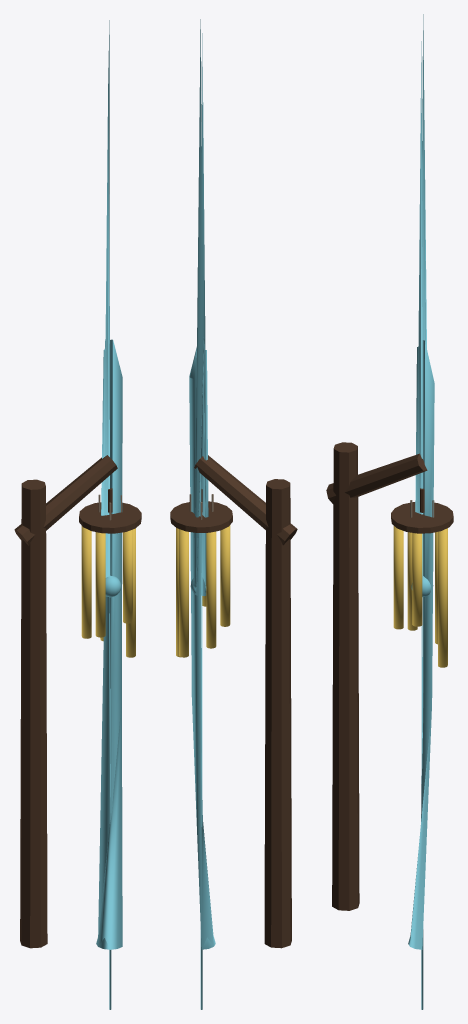
File: greenhouse-wind-chime.glb
3 views of the same model, side by side, from view 1: azimuth 30°, elevation 25°; view 2: azimuth 150°, elevation 25°; view 3: azimuth 330°, elevation 25° (orthographic).
Parts seen in each view (by area): view 1: SupportPost, Clapper, SuspensionDisc, chime_Tube_3, chime_Tube_4, chime_Tube_5, chime_Tube_1; view 2: SupportPost, Clapper, SuspensionDisc, chime_Tube_3, chime_Tube_2, chime_Tube_4, chime_Tube_1; view 3: SupportPost, Clapper, SuspensionDisc, chime_Tube_1, chime_Tube_4, chime_Tube_5, chime_Tube_3, chime_Tube_2.
Part boxes in pixels (x1=…): SupportPost: x1=14, y1=455, x2=117, y2=948; Clapper: x1=96, y1=20, x2=122, y2=1009; SuspensionDisc: x1=79, y1=502, x2=141, y2=533; chime_Tube_3: x1=81, y1=526, x2=91, y2=638; chime_Tube_4: x1=95, y1=532, x2=105, y2=637; chime_Tube_5: x1=123, y1=529, x2=132, y2=623; chime_Tube_1: x1=126, y1=528, x2=135, y2=657; SupportPost: x1=194, y1=455, x2=297, y2=948; Clapper: x1=189, y1=19, x2=215, y2=1009; SuspensionDisc: x1=170, y1=501, x2=232, y2=532; chime_Tube_3: x1=206, y1=531, x2=216, y2=648; chime_Tube_2: x1=179, y1=529, x2=188, y2=657; chime_Tube_4: x1=220, y1=525, x2=230, y2=626; chime_Tube_1: x1=176, y1=528, x2=180, y2=657; SupportPost: x1=326, y1=442, x2=427, y2=910; Clapper: x1=408, y1=14, x2=434, y2=1009; SuspensionDisc: x1=391, y1=502, x2=453, y2=533; chime_Tube_1: x1=438, y1=528, x2=447, y2=667; chime_Tube_4: x1=393, y1=526, x2=403, y2=629; chime_Tube_5: x1=412, y1=533, x2=422, y2=626; chime_Tube_3: x1=407, y1=532, x2=417, y2=630; chime_Tube_2: x1=435, y1=532, x2=437, y2=644.
Bounding box in the file's own units: 0.442 × 3.48 × 0.2.
